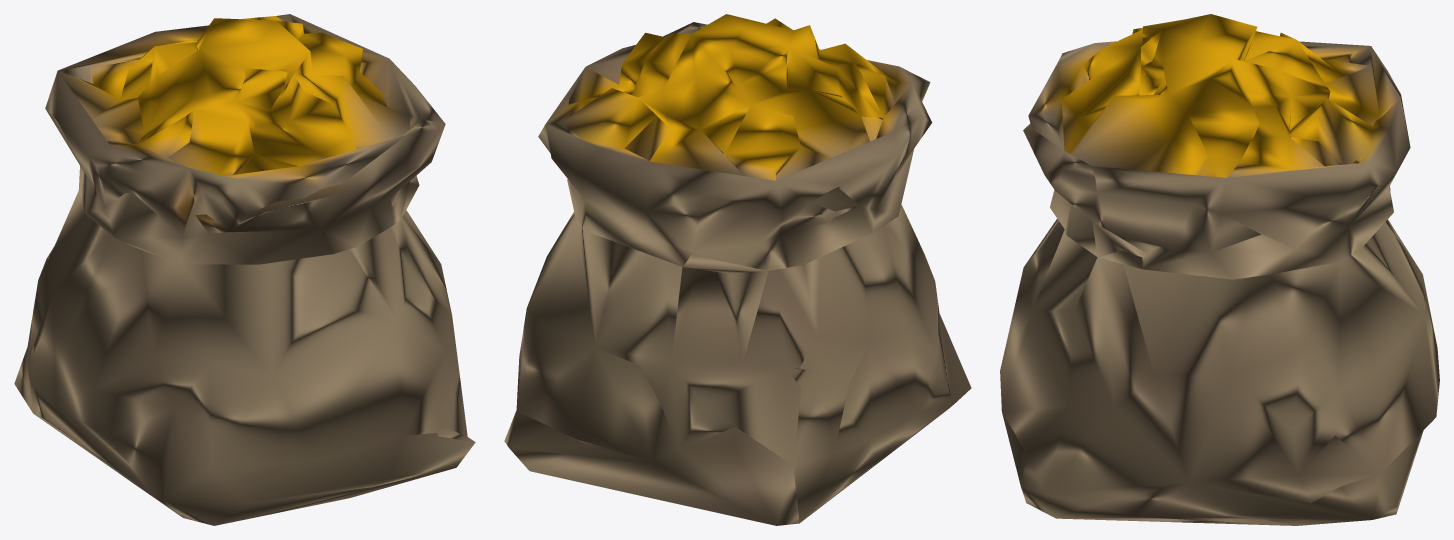
Rendered from gen3d-treasure-sack-lod1.glb.
3 renders of one model, left to right at view 1: azimuth 30°, elevation 25°; view 2: azimuth 150°, elevation 25°; view 3: azimuth 270°, elevation 25°, orthographic. The views are drawn at different scales.
Visible parts, largest first — view 1: part_0; view 2: part_0; view 3: part_0.
Part boxes in pixels (x1,y1,x2,y2): part_0: (14,14,475,525); part_0: (504,14,971,525); part_0: (1000,14,1439,525).
Size of the model in its own units: 0.9367 by 0.9903 by 0.9315.
